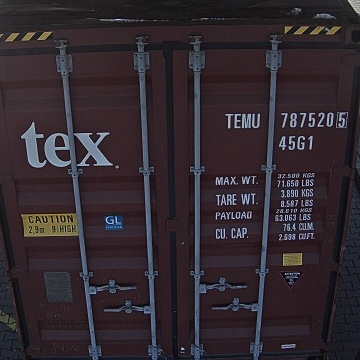serial_id: (223, 112, 346, 129)
